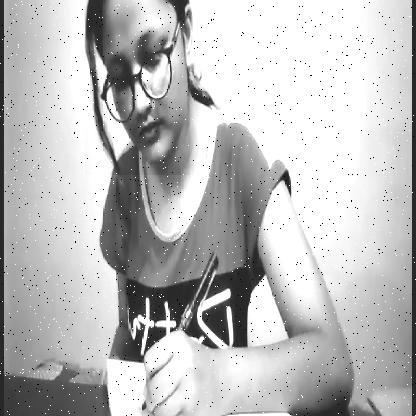Distracted: (85, 0, 190, 175)
